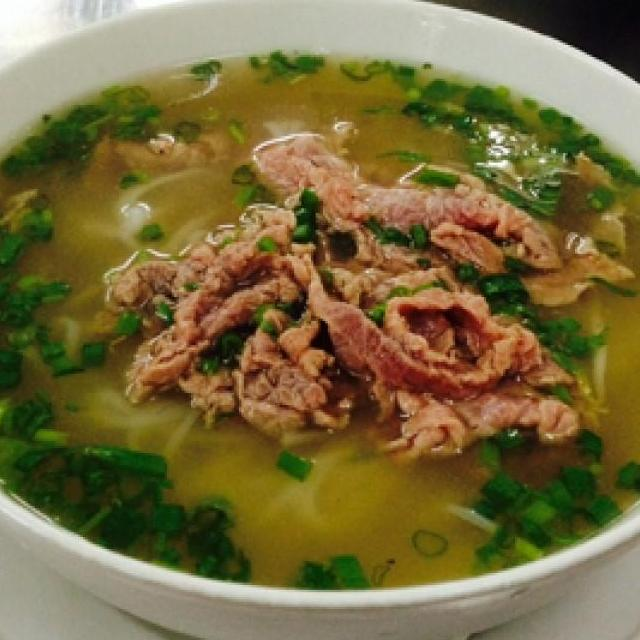thit bo: (243, 114, 574, 284), (81, 186, 321, 412), (276, 234, 560, 408), (367, 321, 587, 472), (163, 298, 368, 454)
